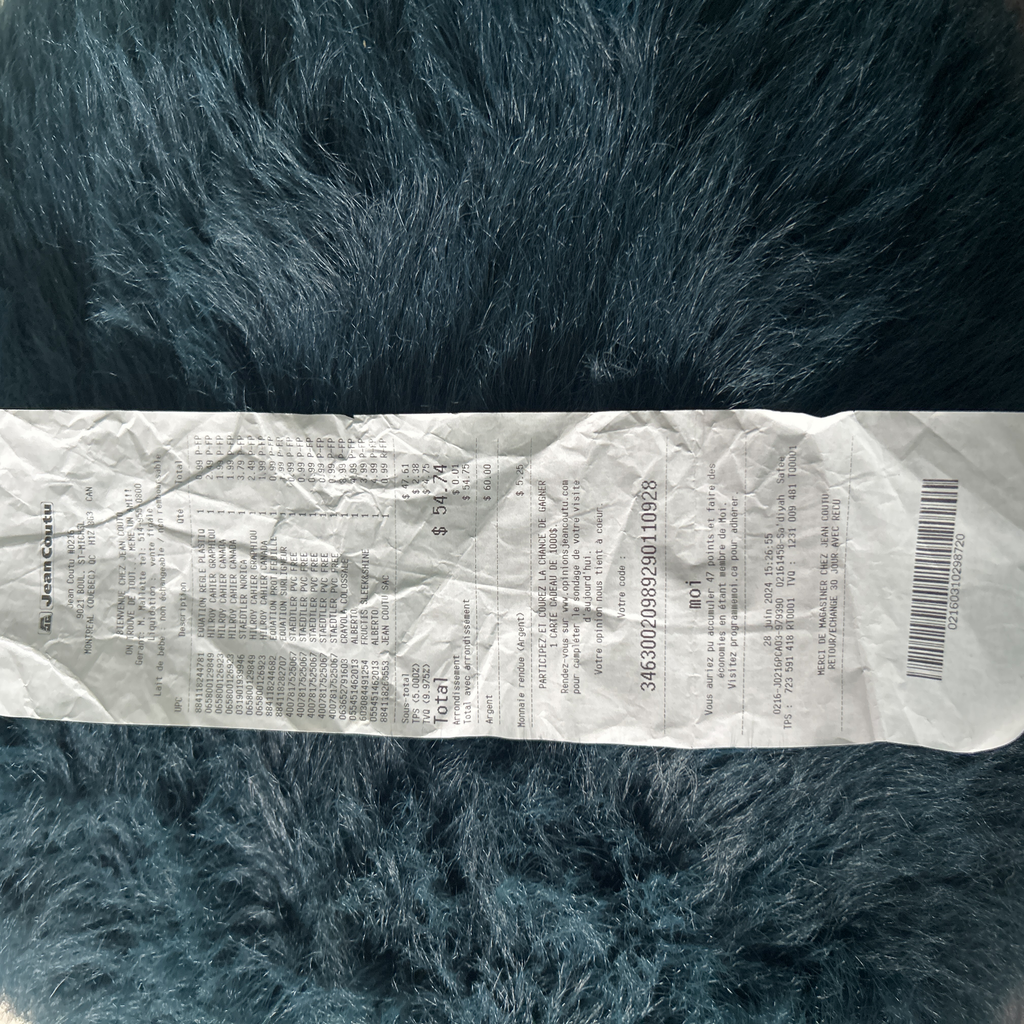recipt: (0, 405, 1024, 758)
